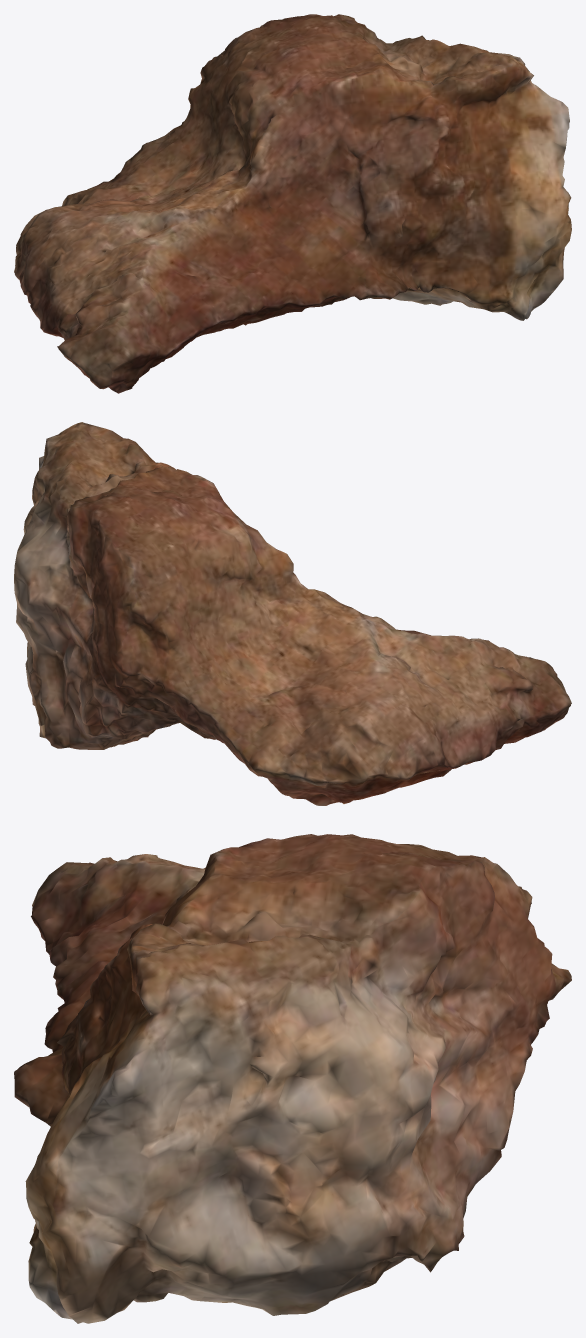
Rendered from rock_real_a.glb.
3 views of the same model, one above another, from view 1: azimuth 30°, elevation 25°; view 2: azimuth 150°, elevation 25°; view 3: azimuth 270°, elevation 25° (orthographic). The views are drawn at different scales.
Parts seen in each view (by area): view 1: stone_01; view 2: stone_01; view 3: stone_01.
Boxes of the visible parts, box(x1,y1,x2,y2) form: stone_01: box(14, 14, 571, 393); stone_01: box(14, 422, 571, 805); stone_01: box(14, 834, 571, 1323).
Bounding box in the file's own units: 0.1469 × 0.0718 × 0.089.
1 material, 1 textured.
